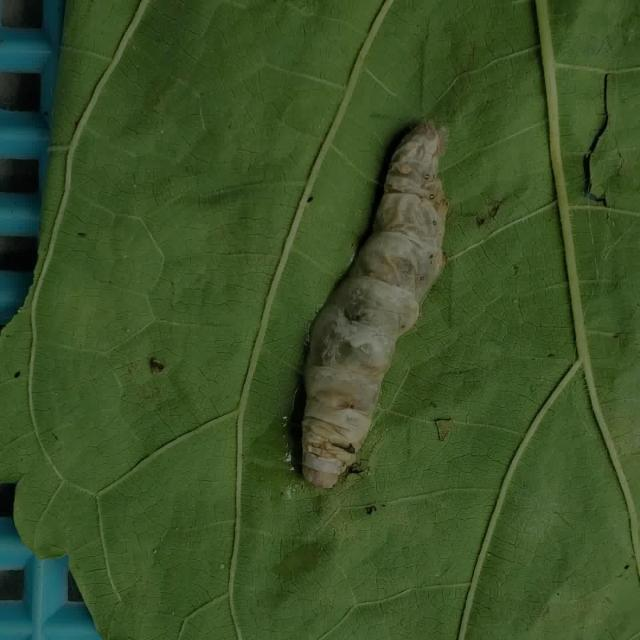Grasserie: (276, 82, 475, 508)
